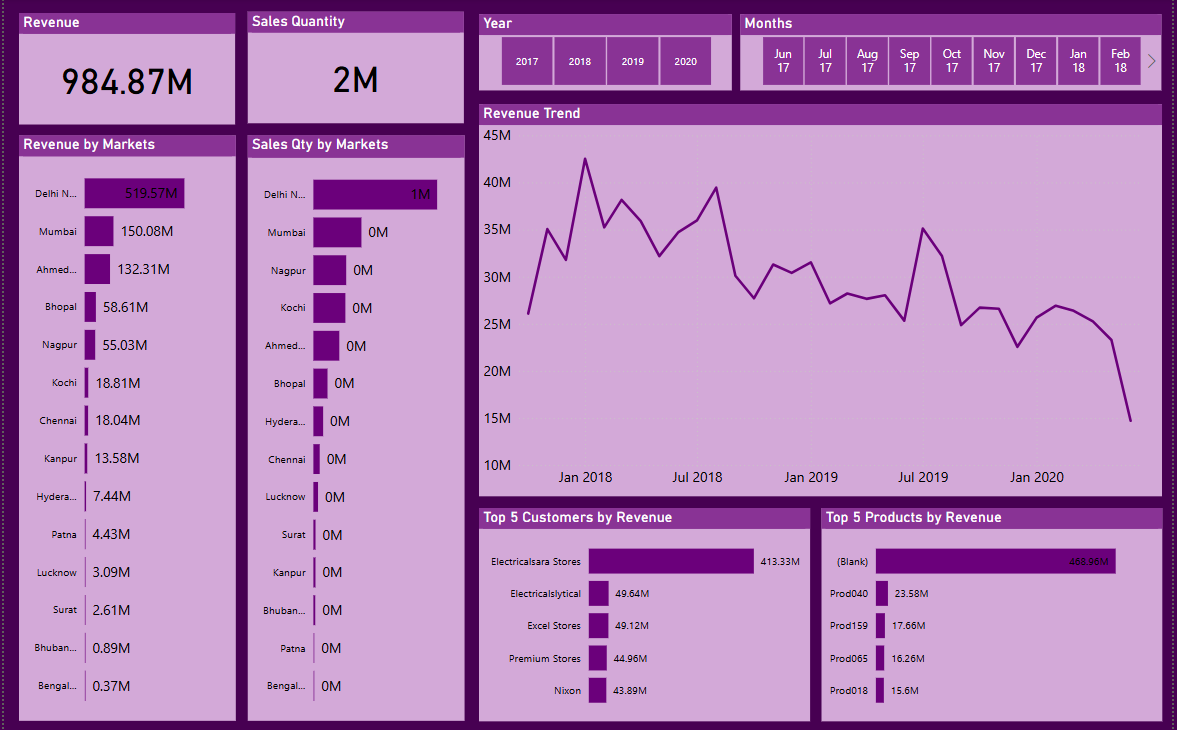

Layout of this report page (visuals, bound fields, positions):
{"tool":"powerbi","page":{"name":"Page 1","canvas":[1350,850],"ordinal":0},"visuals":[{"type":"card","title":"Revenue","fields":{"Values":["BaseMeasures.Revenue"]},"box":[17.3,17.3,249.7,128.5],"z":0},{"type":"card","title":"Sales Quantity","fields":{"Values":["BaseMeasures.Sales Qty"]},"box":[281.5,15.9,249.7,128.5],"z":1000},{"type":"barChart","title":"Revenue by Markets","fields":{"Y":["BaseMeasures.Revenue"],"Category":["sales markets.markets_name"]},"box":[17.4,159.2,250.4,675.9],"z":2000},{"type":"barChart","title":"Sales Qty by Markets","fields":{"Category":["sales markets.markets_name"],"Y":["BaseMeasures.Sales Qty"]},"box":[282.2,159.2,250.4,675.9],"z":3000},{"type":"slicer","title":"Year","fields":{"Values":["sales date.year"]},"box":[548.5,18.8,292.3,88.3],"z":4000},{"type":"slicer","title":"Months","fields":{"Values":["sales date.cy_date"]},"box":[851,18.8,486.3,88.3],"z":5000},{"type":"barChart","title":"Top 5 Customers by Revenue","fields":{"Y":["BaseMeasures.Revenue"],"Category":["sales customers.custmer_name"]},"box":[548.5,589,382.1,246],"z":6000},{"type":"barChart","title":"Top 5 Products by Revenue","fields":{"Y":["BaseMeasures.Revenue"],"Category":["sales products.product_code"]},"box":[943.6,589,393.7,246],"z":7000},{"type":"lineChart","title":"Revenue Trend","fields":{"Category":["sales date.cy_date.Variation.Date Hierarchy.Year","sales date.cy_date.Variation.Date Hierarchy.Quarter","sales date.cy_date.Variation.Date Hierarchy.Month","sales date.cy_date.Variation.Date Hierarchy.Day"],"Y":["BaseMeasures.Revenue"]},"box":[548.5,123,788.8,453],"z":8000}]}

Visuals, with their boxes in screenshot pixels (x1, y1, x2, y2), scaled from the page's 1350x850 canvas onto the 1177x730 screenshot:
"Revenue" card: [left=15, top=15, right=233, bottom=125]
"Sales Quantity" card: [left=245, top=14, right=463, bottom=124]
"Revenue by Markets" barChart: [left=15, top=137, right=233, bottom=717]
"Sales Qty by Markets" barChart: [left=246, top=137, right=464, bottom=717]
"Year" slicer: [left=478, top=16, right=733, bottom=92]
"Months" slicer: [left=742, top=16, right=1166, bottom=92]
"Top 5 Customers by Revenue" barChart: [left=478, top=506, right=811, bottom=717]
"Top 5 Products by Revenue" barChart: [left=823, top=506, right=1166, bottom=717]
"Revenue Trend" lineChart: [left=478, top=106, right=1166, bottom=495]
